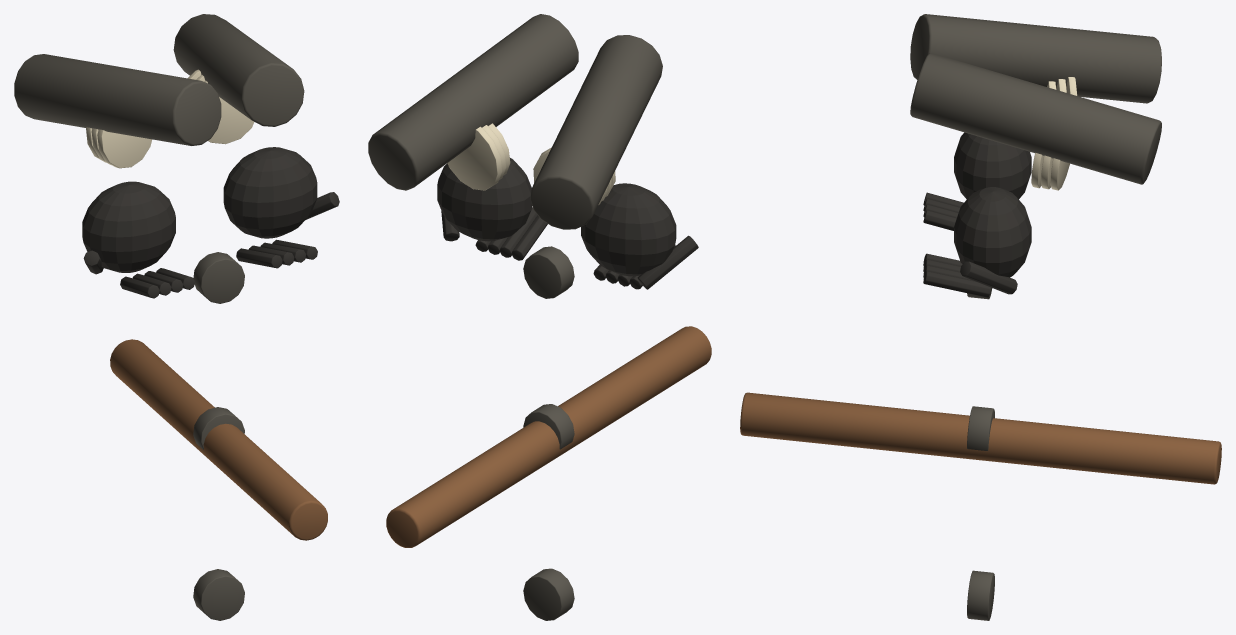
Rendered from dz_fps_pipe_gloved_premium.glb.
3 views of the same model, side by side, from view 1: azimuth 30°, elevation 25°; view 2: azimuth 150°, elevation 25°; view 3: azimuth 270°, elevation 25° (orthographic).
Visible parts, largest first — view 1: left_forearm_wrapped, long_rusted_pipe_body, right_forearm_wrapped, right_gloved_palm, left_gloved_palm, pipe_tape_ring_-1.32, pipe_tape_ring_-0.42, wrist_tape_-1_0, wrist_tape_1_0, pipe_tape_ring_-0.86, finger_1_0, finger_-1_3 (+1 smaller); view 2: long_rusted_pipe_body, right_forearm_wrapped, left_forearm_wrapped, left_gloved_palm, right_gloved_palm, wrist_tape_1_2, pipe_tape_ring_-0.42, pipe_tape_ring_-1.32, pipe_tape_ring_-0.86, thumb_-1, finger_1_0, finger_1_1; view 3: long_rusted_pipe_body, right_forearm_wrapped, left_forearm_wrapped, right_gloved_palm, left_gloved_palm, pipe_tape_ring_-1.32, pipe_tape_ring_-0.86, thumb_1, finger_1_3.
Boxes of the visible parts, <box> form: left_forearm_wrapped: <box>14,54,221,145</box>; long_rusted_pipe_body: <box>110,339,327,540</box>; right_forearm_wrapped: <box>173,14,304,126</box>; right_gloved_palm: <box>223,147,317,238</box>; left_gloved_palm: <box>82,181,175,272</box>; pipe_tape_ring_-1.32: <box>193,569,244,620</box>; pipe_tape_ring_-0.42: <box>193,252,244,303</box>; wrist_tape_-1_0: <box>97,129,152,168</box>; wrist_tape_1_0: <box>204,80,254,144</box>; pipe_tape_ring_-0.86: <box>193,407,244,449</box>; finger_1_0: <box>236,248,282,268</box>; finger_-1_3: <box>120,276,159,298</box>; long_rusted_pipe_body: <box>386,326,711,547</box>; right_forearm_wrapped: <box>368,14,578,190</box>; left_forearm_wrapped: <box>530,35,662,229</box>; left_gloved_palm: <box>581,183,676,276</box>; right_gloved_palm: <box>437,157,532,241</box>; wrist_tape_1_2: <box>447,126,502,190</box>; pipe_tape_ring_-0.42: <box>523,246,574,298</box>; pipe_tape_ring_-1.32: <box>523,568,574,620</box>; pipe_tape_ring_-0.86: <box>523,404,574,449</box>; thumb_-1: <box>637,235,698,289</box>; finger_1_0: <box>511,215,547,260</box>; finger_1_1: <box>499,207,537,257</box>; long_rusted_pipe_body: <box>740,392,1221,484</box>; right_forearm_wrapped: <box>910,53,1161,184</box>; left_forearm_wrapped: <box>910,14,1161,103</box>; right_gloved_palm: <box>954,187,1031,277</box>; left_gloved_palm: <box>954,132,1031,199</box>; pipe_tape_ring_-1.32: <box>967,570,994,620</box>; pipe_tape_ring_-0.86: <box>967,406,994,450</box>; thumb_1: <box>960,261,1017,294</box>; finger_1_3: <box>923,271,990,297</box>.
Bounding box in the file's own units: 0.7554 × 1.61 × 1.22.
